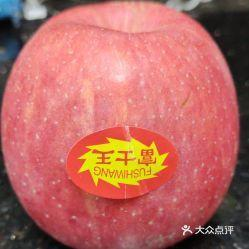apple: (1, 1, 241, 248)
